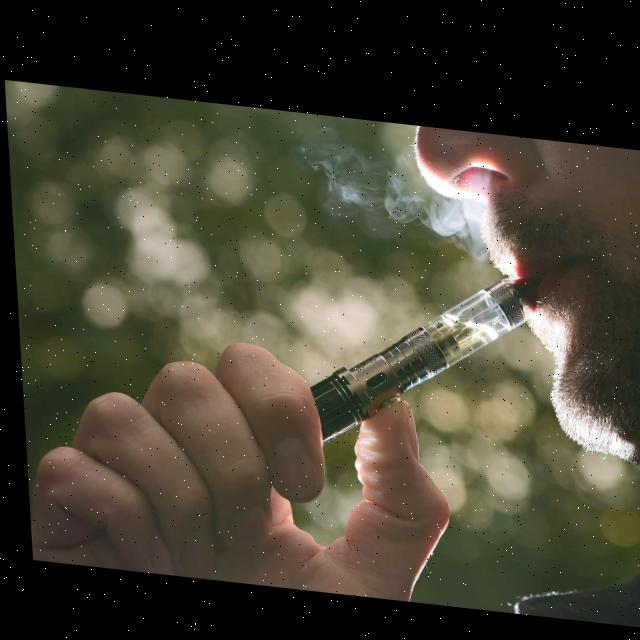vape: (301, 243, 531, 453)
